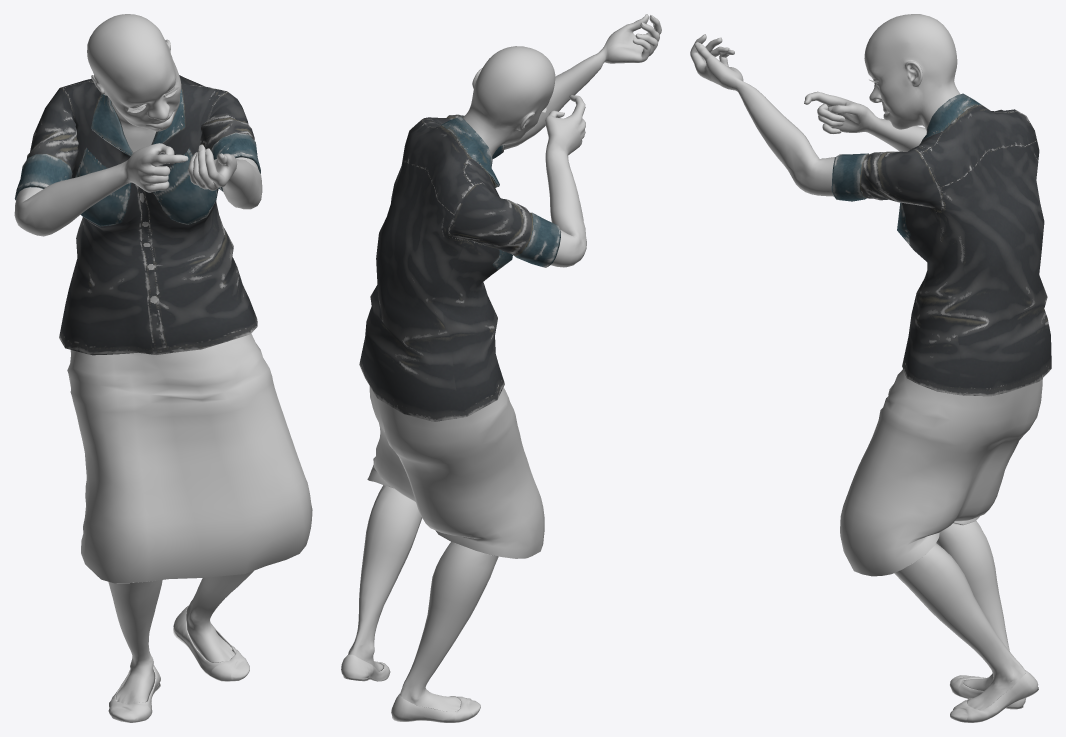
Rendered from model_3_anim_0_f0.obj.
3 views of the same model, side by side, from view 1: azimuth 30°, elevation 25°; view 2: azimuth 150°, elevation 25°; view 3: azimuth 270°, elevation 25° (orthographic). The views are drawn at different scales.
Visible parts, largest first — view 1: Bottoms, Tops, Body, Shoes; view 2: Tops, Body, Bottoms, Shoes; view 3: Tops, Body, Bottoms, Shoes.
Boxes of the visible parts, x1=… form: Bottoms: x1=67, y1=333, x2=312, y2=583; Tops: x1=14, y1=75, x2=260, y2=355; Body: x1=14, y1=14, x2=262, y2=704; Shoes: x1=108, y1=605, x2=249, y2=722; Tops: x1=359, y1=114, x2=560, y2=421; Body: x1=348, y1=14, x2=661, y2=711; Bottoms: x1=367, y1=386, x2=544, y2=558; Shoes: x1=341, y1=654, x2=480, y2=722; Tops: x1=831, y1=93, x2=1051, y2=396; Body: x1=690, y1=14, x2=1025, y2=710; Bottoms: x1=840, y1=369, x2=1042, y2=576; Shoes: x1=950, y1=670, x2=1038, y2=722.
Bounding box in the file's own units: 116 × 309 × 153.
